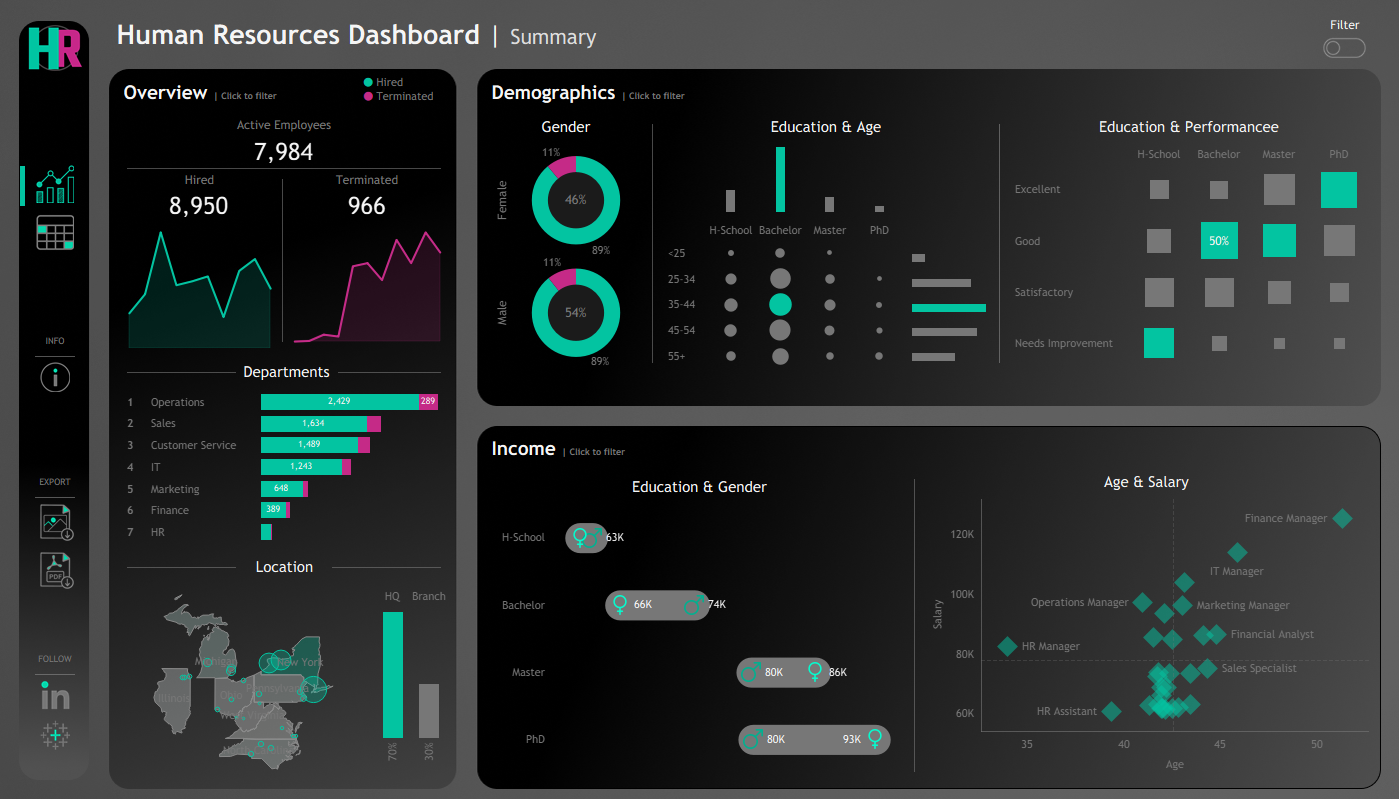

This screenshot's page, from the dashboard's own definition file:
{"tool":"tableau","page":{"name":"HR | Summary","canvas":[1400,800],"ordinal":1},"visuals":[{"type":"image","param":"Image/Frame 1.png","box":[0,0,1400,800]},{"type":"blank","box":[90,0,1310,246]},{"type":"text","box":[110,0,673,70]},{"type":"blank","box":[783,0,597,70]},{"type":"filter","title":"Gender vs. Education Level","param":"[federated.145kdan1rucrb81f4k3e501kloph].[none:Gender:nk]","box":[843,10,116,50]},{"type":"filter","title":"Gender vs. Education Level","param":"[federated.145kdan1rucrb81f4k3e501kloph].[none:Calculation_0941525293240320:nk]","box":[959,10,116,50]},{"type":"filter","title":"Gender vs. Education Level","param":"[federated.145kdan1rucrb81f4k3e501kloph].[none:Calculation_1507498542620677:nk]","box":[1075,10,115,50]},{"type":"filter","title":"Gender vs. Education Level","param":"[federated.145kdan1rucrb81f4k3e501kloph].[yr:Hiredate:ok]","box":[1190,10,115,50]},{"type":"text","box":[1309,13,72,24]},{"type":"image","param":"Image/Logo.png","box":[20,20,70,55]},{"type":"dashboard-object","box":[1322,26,44,42]},{"type":"text","box":[361,69,81,43]},{"type":"text","box":[117,77,334,31]},{"type":"text","box":[485,77,888,32]},{"type":"blank","box":[30,85,50,80]},{"type":"text","box":[117,108,334,28]},{"type":"text","box":[485,114,162,26]},{"type":"blank","box":[652,114,1,259]},{"type":"text","box":[658,114,336,26]},{"type":"blank","box":[999,114,1,259]},{"type":"text","box":[1005,114,368,26]},{"type":"worksheet","title":"Ban Active","mark":"Text","box":[117,136,334,32]},{"type":"worksheet","title":"Gender","mark":"Pie","rows":["Gender"],"cols":["Calculation_1507498550472711","Calculation_1507498550472711"],"box":[485,140,162,233]},{"type":"worksheet","title":"Education Levels","mark":"Bar","rows":["Calculation_1507498509508608"],"cols":["Education Level"],"box":[658,140,336,76]},{"type":"worksheet","title":"Education vs. Performance","mark":"Square","rows":["Performance Rating"],"cols":["Education Level"],"box":[1005,140,368,233]},{"type":"dashboard-object","box":[30,165,50,38]},{"type":"blank","box":[20,166,5,40]},{"type":"blank","box":[117,168,334,1]},{"type":"text","box":[117,169,165,22]},{"type":"blank","box":[282,169,1,183]},{"type":"text","box":[283,169,167.9,22]},{"type":"worksheet","title":"Ban Hired","mark":"Text","box":[117,191,165,30]},{"type":"worksheet","title":"Ban Terminated","mark":"Text","box":[283,191,167.9,30]},{"type":"blank","box":[30,203,50,10]},{"type":"dashboard-object","box":[30,213,50,38]},{"type":"worksheet","title":"Age vs. Education","mark":"Circle","rows":["Calculation_1507498554171401"],"cols":["Education Level"],"box":[658,216,250,157]},{"type":"worksheet","title":"Age Groups","mark":"Bar","rows":["Calculation_1507498554171401"],"cols":["Calculation_1507498509508608"],"box":[908,216,86,157]},{"type":"worksheet","title":"Hired  By Year","mark":"Line","rows":["Calculation_1507498509508608","Calculation_1507498509508608"],"cols":["Hiredate"],"box":[117,221,165,131]},{"type":"worksheet","title":"Terminated By Year","mark":"Line","rows":["Calculation_1507498509586433","Calculation_1507498509586433"],"cols":["Termdate"],"box":[283,221,167.9,131]},{"type":"text","box":[90,246,1310,237]},{"type":"blank","box":[30,251,50,80]},{"type":"text","box":[30,331,50,20]},{"type":"blank","box":[30,351,50,11]},{"type":"blank","box":[127,357,109.5,30]},{"type":"text","box":[236.5,357,101.5,30]},{"type":"blank","box":[338,357,103,30]},{"type":"dashboard-object","box":[30,362,50,30]},{"type":"worksheet","title":"Departments","mark":"Bar","rows":["Calculation_1507498520154116","Department"],"cols":["Calculation_1507498509508608"],"box":[117,387,334,160]},{"type":"blank","box":[30,392,50,80]},{"type":"text","box":[485,433,888,31]},{"type":"blank","box":[914,469,1,313]},{"type":"text","box":[920,469,453,26]},{"type":"text","box":[30,472,50,20]},{"type":"text","box":[490,474,419,26]},{"type":"blank","box":[90,483,1310,317]},{"type":"blank","box":[30,492,50,11]},{"type":"worksheet","title":"Age vs. Salary","mark":"Shape","rows":["Salary"],"cols":["Calculation_1507498553462792"],"box":[920,495,453,287]},{"type":"worksheet","title":"Gender vs. Education Level","mark":"Square","rows":["Education Level"],"cols":["Salary","Salary"],"box":[490,500,419,277]},{"type":"dashboard-object","box":[30,503,50,38]},{"type":"blank","box":[30,541,50,10]},{"type":"dashboard-object","box":[30,551,50,38]},{"type":"blank","box":[127,552,108.7,30]},{"type":"text","box":[235.6,552,96.7,30]},{"type":"blank","box":[332.3,552,108.7,30]},{"type":"worksheet","title":"Map States","mark":"Automatic","box":[117,582,253,200]},{"type":"worksheet","title":"Location","mark":"Bar","rows":["Calculation_1507498509508608"],"cols":["Calculation_1507498542620677"],"box":[370,582,81,200]},{"type":"blank","box":[30,589,50,60]},{"type":"text","box":[30,649,50,20]},{"type":"blank","box":[30,669,50,11]},{"type":"image","param":"Image/contact-linkedin.png","box":[30,680,50,30]},{"type":"blank","box":[30,710,50,10]},{"type":"image","param":"Image/contact-public.png","box":[30,720,50,30]}]}

Visuals, with their boxes in screenshot pixels (x1, y1, x2, y2), scaled from the page's 1400x800 canvas onto the 1399x799 screenshot:
image: <bbox>0, 0, 1398, 798</bbox>
blank: <bbox>90, 0, 1398, 246</bbox>
text: <bbox>110, 0, 782, 70</bbox>
blank: <bbox>782, 0, 1379, 70</bbox>
"Gender vs. Education Level" filter: <bbox>842, 10, 958, 60</bbox>
"Gender vs. Education Level" filter: <bbox>958, 10, 1074, 60</bbox>
"Gender vs. Education Level" filter: <bbox>1074, 10, 1189, 60</bbox>
"Gender vs. Education Level" filter: <bbox>1189, 10, 1304, 60</bbox>
text: <bbox>1308, 13, 1380, 37</bbox>
image: <bbox>20, 20, 90, 75</bbox>
dashboard-object: <bbox>1321, 26, 1365, 68</bbox>
text: <bbox>361, 69, 442, 112</bbox>
text: <bbox>117, 77, 451, 108</bbox>
text: <bbox>485, 77, 1372, 109</bbox>
blank: <bbox>30, 85, 80, 165</bbox>
text: <bbox>117, 108, 451, 136</bbox>
text: <bbox>485, 114, 647, 140</bbox>
blank: <bbox>652, 114, 653, 373</bbox>
text: <bbox>658, 114, 993, 140</bbox>
blank: <bbox>998, 114, 999, 373</bbox>
text: <bbox>1004, 114, 1372, 140</bbox>
"Ban Active" worksheet (Text marks): <bbox>117, 136, 451, 168</bbox>
"Gender" worksheet (Pie marks): <bbox>485, 140, 647, 373</bbox>
"Education Levels" worksheet (Bar marks): <bbox>658, 140, 993, 216</bbox>
"Education vs. Performance" worksheet (Square marks): <bbox>1004, 140, 1372, 373</bbox>
dashboard-object: <bbox>30, 165, 80, 203</bbox>
blank: <bbox>20, 166, 25, 206</bbox>
blank: <bbox>117, 168, 451, 169</bbox>
text: <bbox>117, 169, 282, 191</bbox>
blank: <bbox>282, 169, 283, 352</bbox>
text: <bbox>283, 169, 451, 191</bbox>
"Ban Hired" worksheet (Text marks): <bbox>117, 191, 282, 221</bbox>
"Ban Terminated" worksheet (Text marks): <bbox>283, 191, 451, 221</bbox>
blank: <bbox>30, 203, 80, 213</bbox>
dashboard-object: <bbox>30, 213, 80, 251</bbox>
"Age vs. Education" worksheet (Circle marks): <bbox>658, 216, 907, 373</bbox>
"Age Groups" worksheet (Bar marks): <bbox>907, 216, 993, 373</bbox>
"Hired  By Year" worksheet (Line marks): <bbox>117, 221, 282, 352</bbox>
"Terminated By Year" worksheet (Line marks): <bbox>283, 221, 451, 352</bbox>
text: <bbox>90, 246, 1398, 482</bbox>
blank: <bbox>30, 251, 80, 331</bbox>
text: <bbox>30, 331, 80, 351</bbox>
blank: <bbox>30, 351, 80, 362</bbox>
blank: <bbox>127, 357, 236, 387</bbox>
text: <bbox>236, 357, 338, 387</bbox>
blank: <bbox>338, 357, 441, 387</bbox>
dashboard-object: <bbox>30, 362, 80, 392</bbox>
"Departments" worksheet (Bar marks): <bbox>117, 387, 451, 546</bbox>
blank: <bbox>30, 392, 80, 471</bbox>
text: <bbox>485, 432, 1372, 463</bbox>
blank: <bbox>913, 468, 914, 781</bbox>
text: <bbox>919, 468, 1372, 494</bbox>
text: <bbox>30, 471, 80, 491</bbox>
text: <bbox>490, 473, 908, 499</bbox>
blank: <bbox>90, 482, 1398, 798</bbox>
blank: <bbox>30, 491, 80, 502</bbox>
"Age vs. Salary" worksheet (Shape marks): <bbox>919, 494, 1372, 781</bbox>
"Gender vs. Education Level" worksheet (Square marks): <bbox>490, 499, 908, 776</bbox>
dashboard-object: <bbox>30, 502, 80, 540</bbox>
blank: <bbox>30, 540, 80, 550</bbox>
dashboard-object: <bbox>30, 550, 80, 588</bbox>
blank: <bbox>127, 551, 236, 581</bbox>
text: <bbox>235, 551, 332, 581</bbox>
blank: <bbox>332, 551, 441, 581</bbox>
"Map States" worksheet: <bbox>117, 581, 370, 781</bbox>
"Location" worksheet (Bar marks): <bbox>370, 581, 451, 781</bbox>
blank: <bbox>30, 588, 80, 648</bbox>
text: <bbox>30, 648, 80, 668</bbox>
blank: <bbox>30, 668, 80, 679</bbox>
image: <bbox>30, 679, 80, 709</bbox>
blank: <bbox>30, 709, 80, 719</bbox>
image: <bbox>30, 719, 80, 749</bbox>
